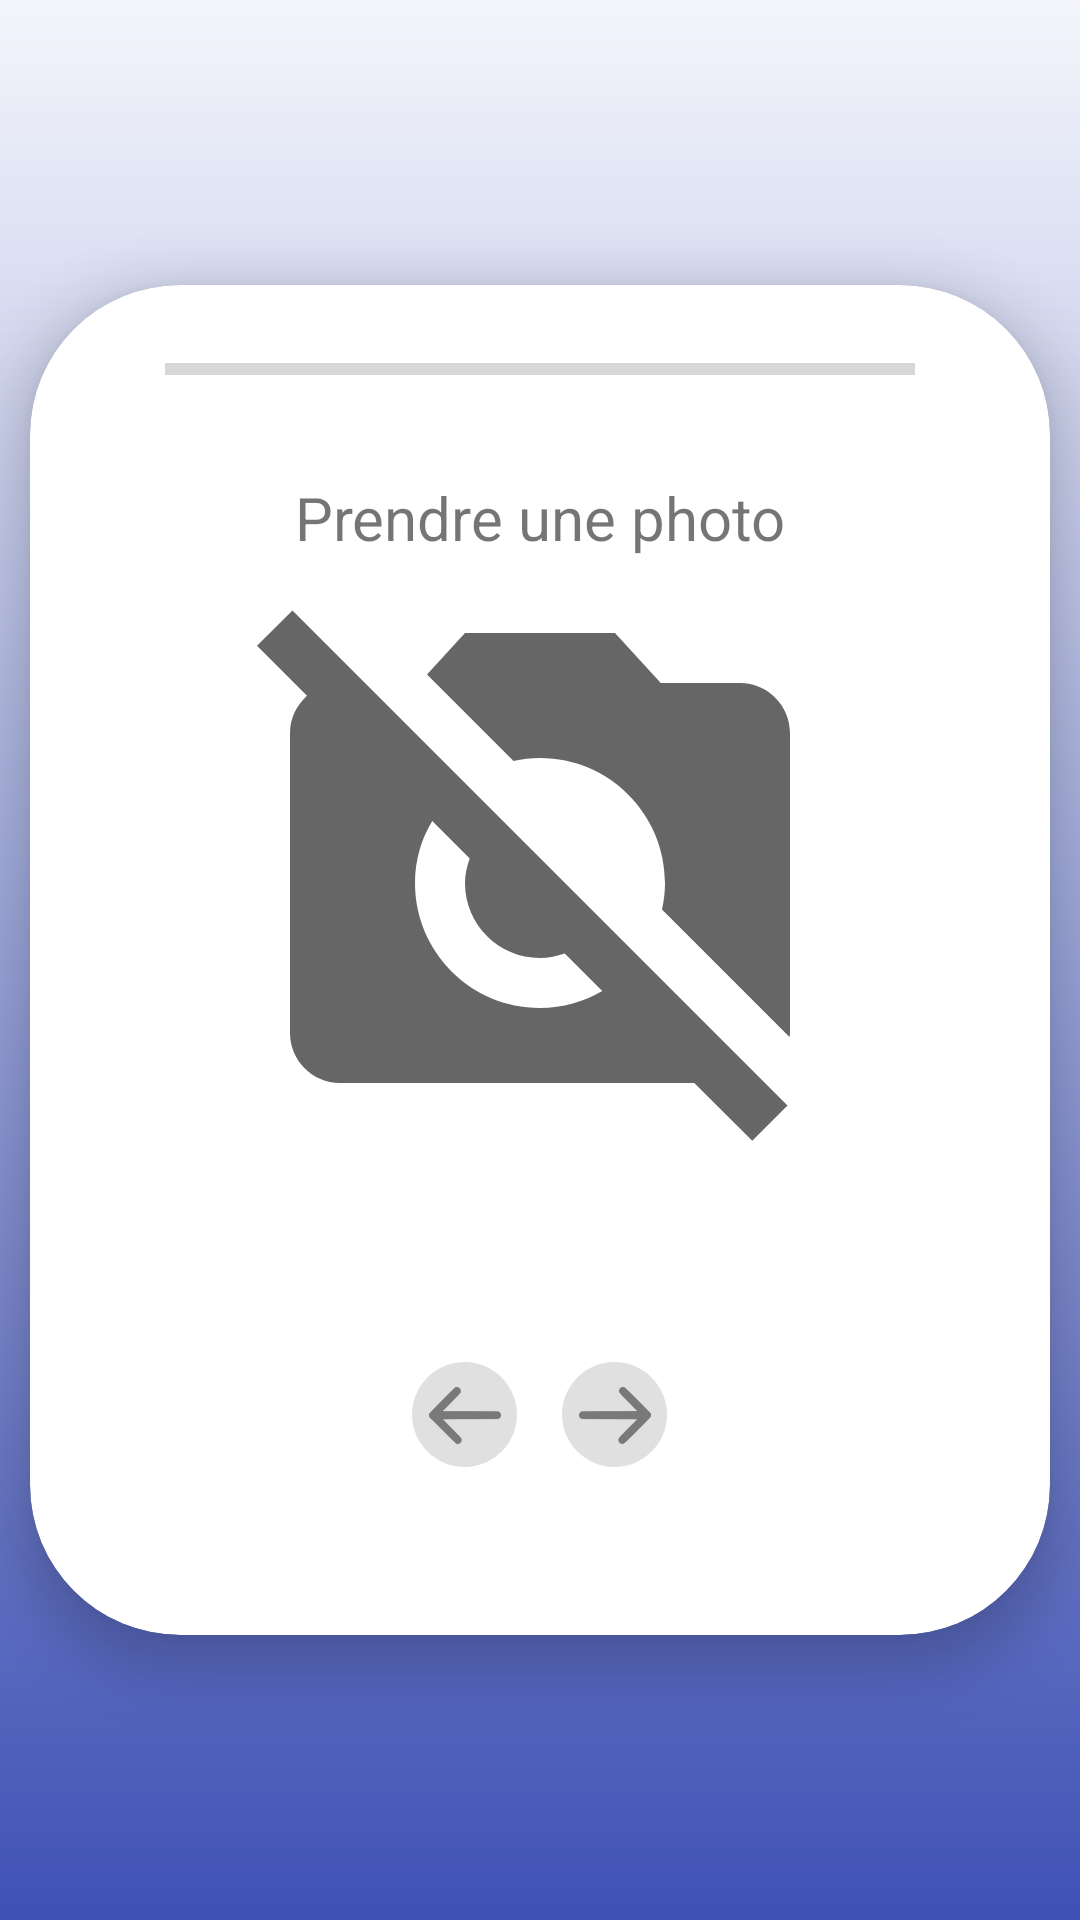

Screen size 1080x1920. Icon name, then its center in pixels as (x,y):
arrows left: (464,1414)
arrows right: (614,1414)
